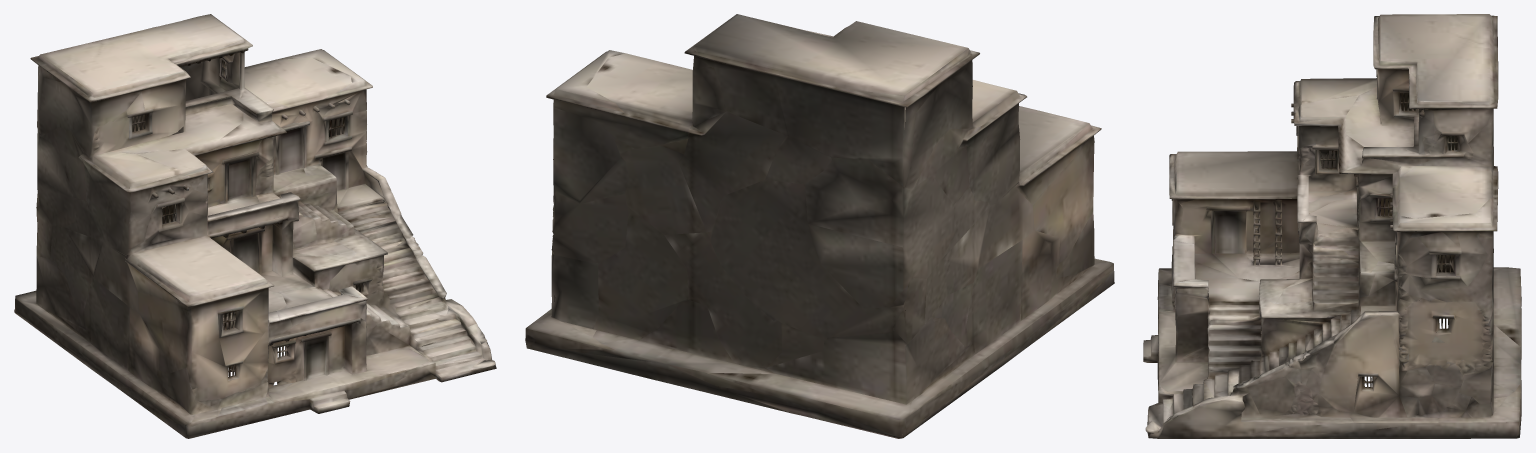
Rendered from house_02.glb.
The picture shows the model from 3 angles, left to right: view 1: azimuth 30°, elevation 25°; view 2: azimuth 150°, elevation 25°; view 3: azimuth 270°, elevation 25°; orthographic projection. The views are drawn at different scales.
Visible parts, largest first — view 1: node_0; view 2: node_0; view 3: node_0.
Part boxes in pixels (x1,y1,x2,y2): node_0: (14,14,496,438); node_0: (525,14,1114,438); node_0: (1143,14,1521,438).
Bounding box in the file's own units: 0.7327 × 0.6042 × 0.7509.
1 material, 1 textured.
